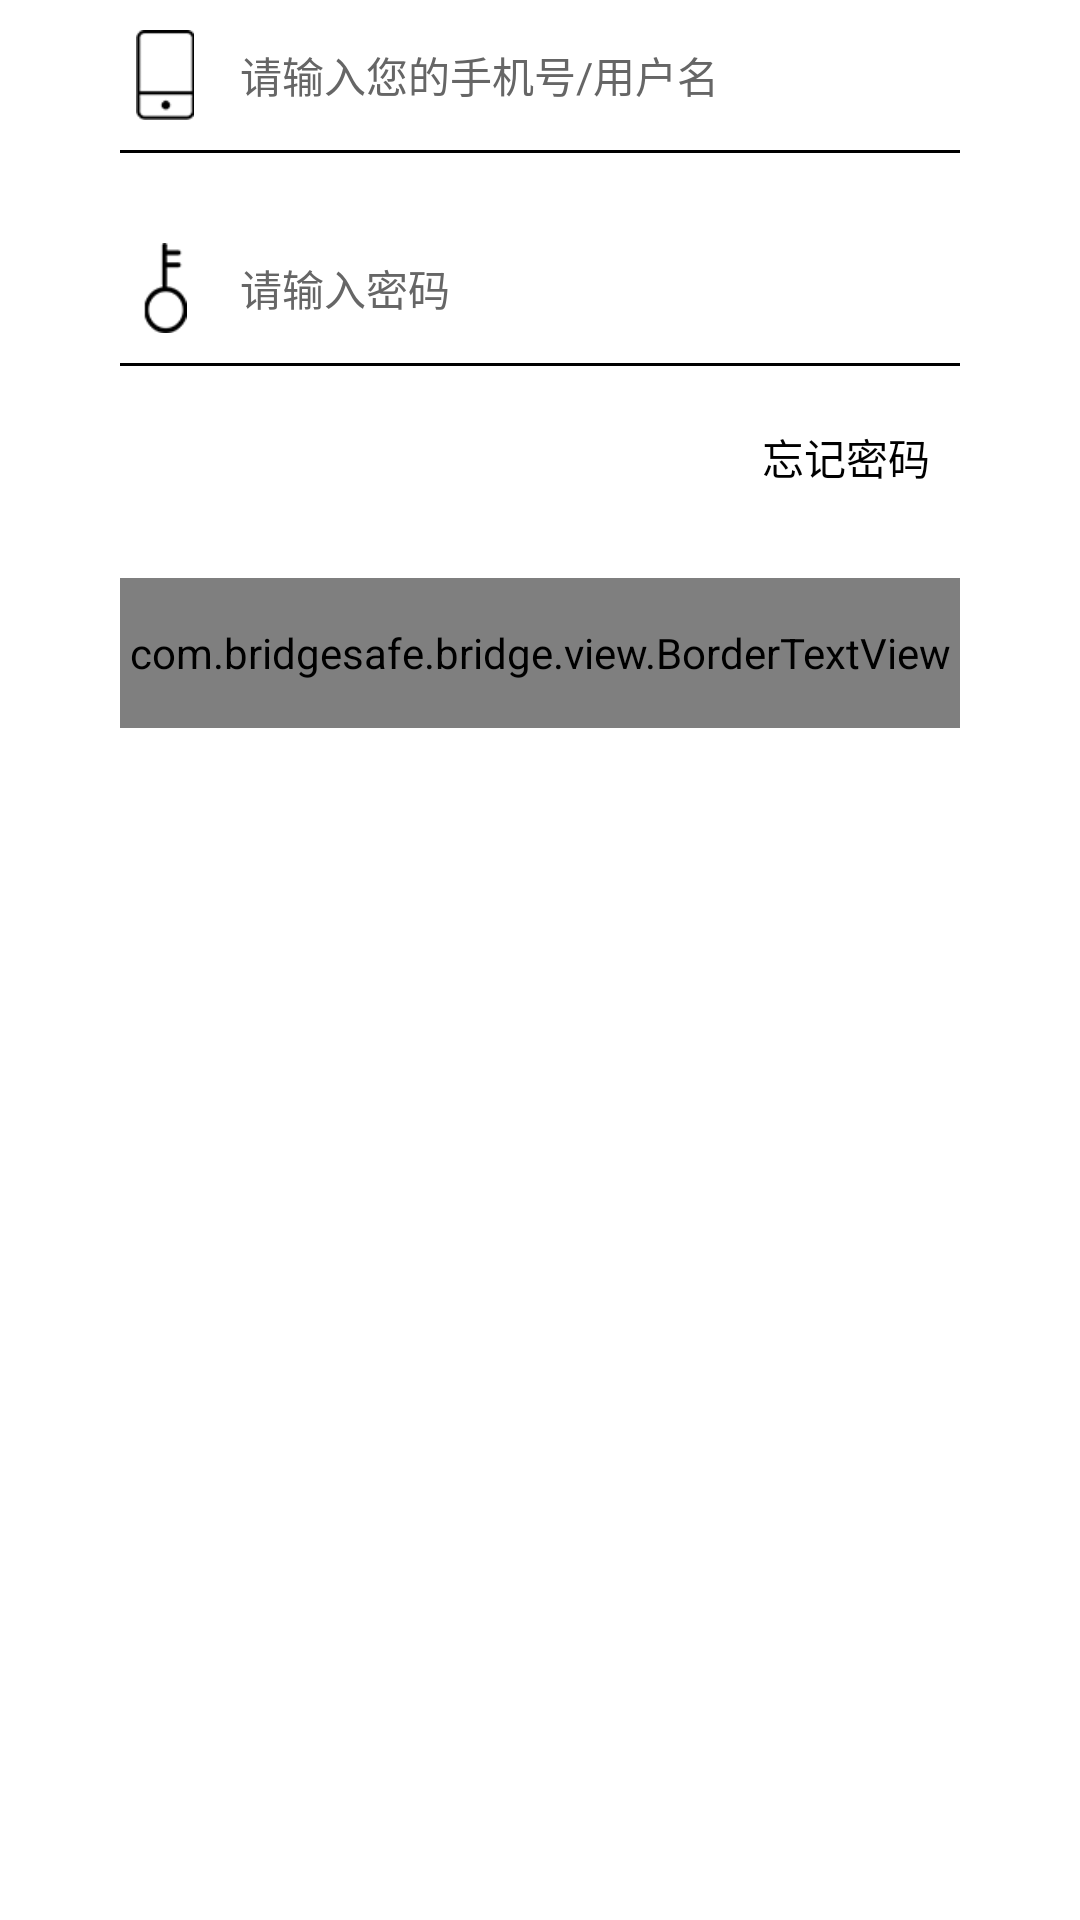

Named icons in this screenshot (1080 x 1920) and their bounding boxes, (x1,y1,x2,y2):
password: (144,243,187,333)
phone: (136,30,194,120)
